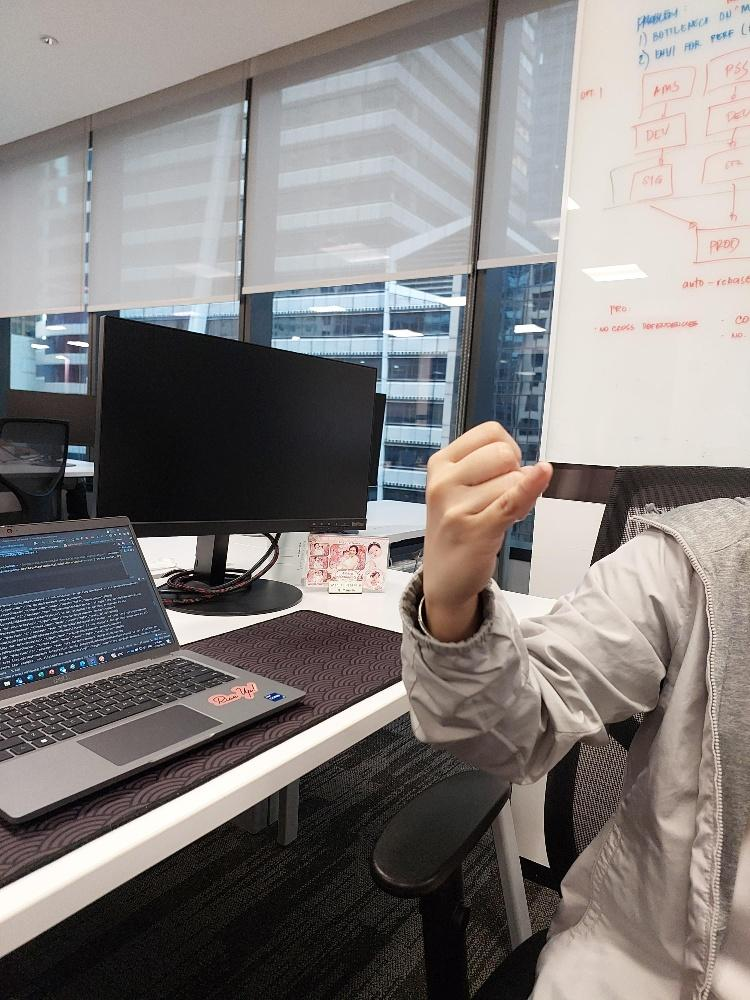j: (419, 420, 553, 597)
